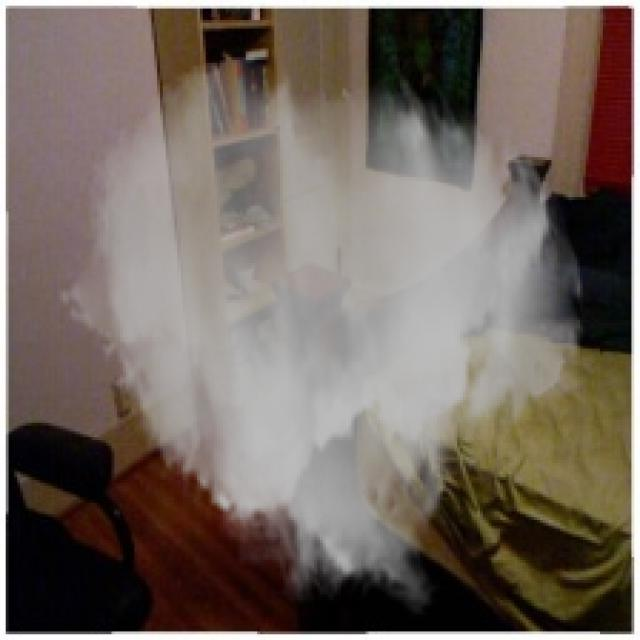smoke: (57, 52, 589, 617)
